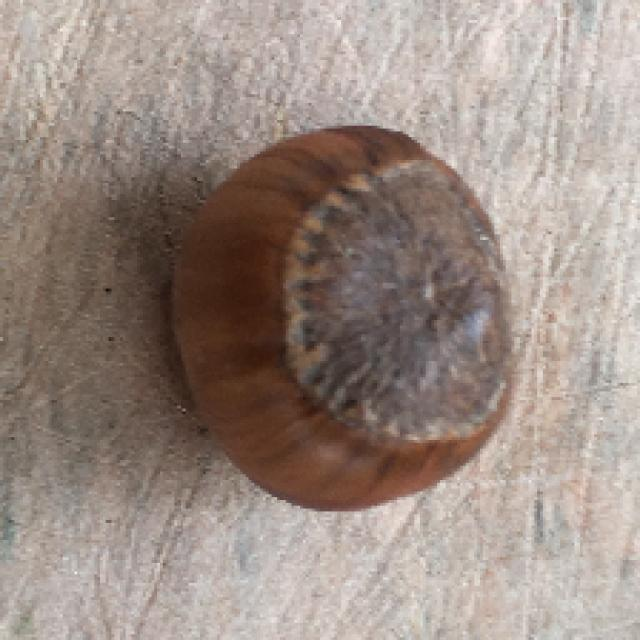damagedHazelnut: (157, 115, 534, 511)
